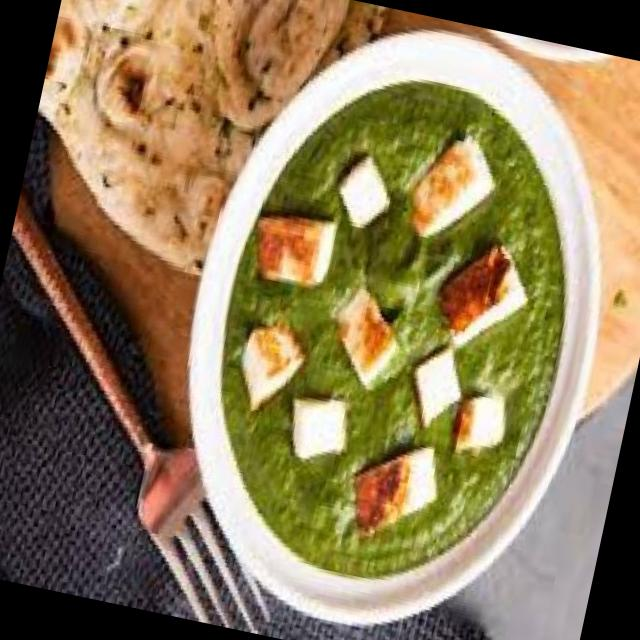palak_paneer: (177, 50, 610, 612)
